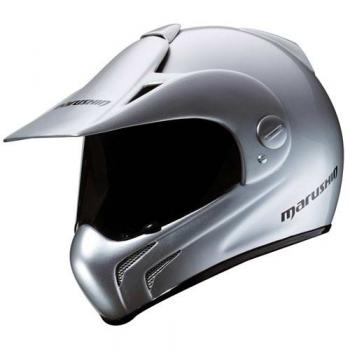helmet: (119, 14, 347, 301)
